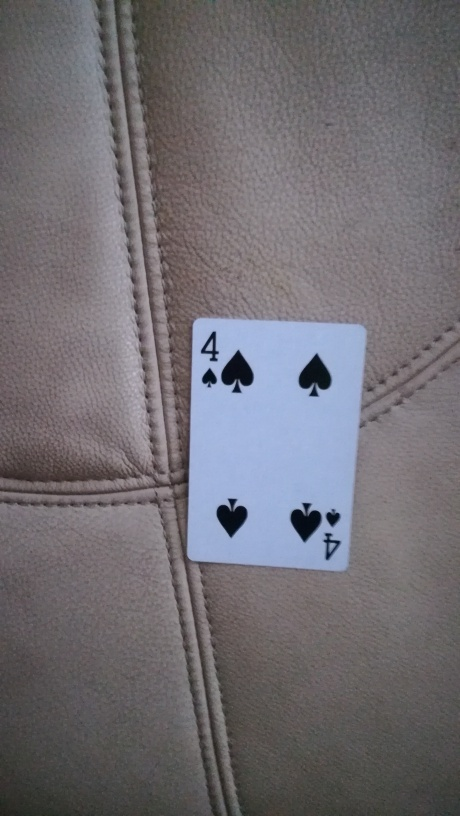ht 4: (179, 313, 368, 578)
